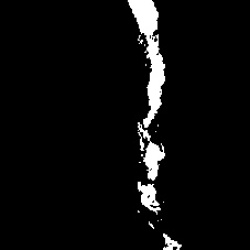crack: (127, 1, 167, 181), (138, 181, 159, 212), (162, 233, 183, 246)
